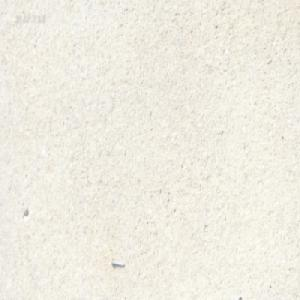Nail: (109, 257, 124, 267)
